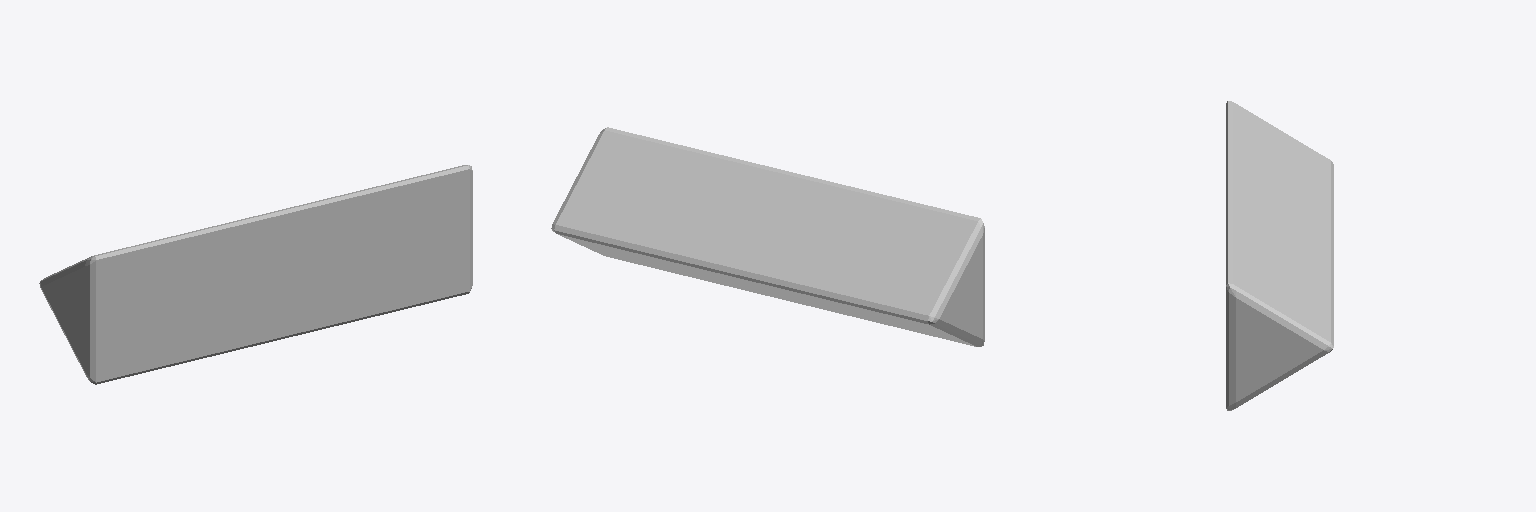
The model's file is TYPEPRISM.obj.
3 views of the same model, side by side, from view 1: azimuth 30°, elevation 25°; view 2: azimuth 150°, elevation 25°; view 3: azimuth 270°, elevation 25° (orthographic).
Parts seen in each view (by area): view 1: Plane_Plane.001; view 2: Plane_Plane.001; view 3: Plane_Plane.001.
Boxes of the visible parts, <box> form: Plane_Plane.001: <box>39,165,472,384</box>; Plane_Plane.001: <box>551,127,984,346</box>; Plane_Plane.001: <box>1226,101,1333,410</box>.
Bounding box in the file's own units: 4.99 × 1.59 × 1.21.